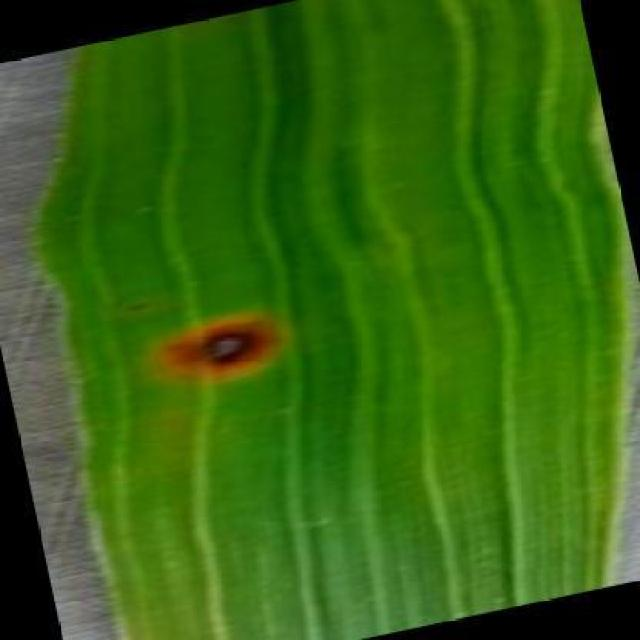Leaf_Blast: (137, 294, 294, 398), (116, 289, 162, 325)
